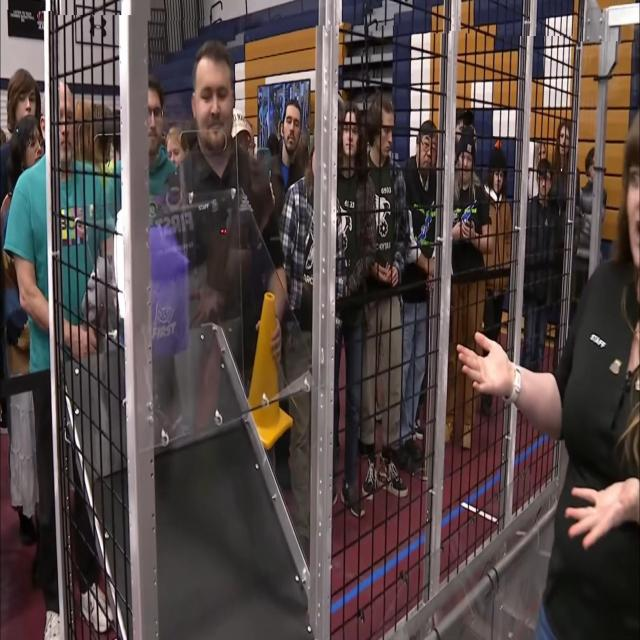frc_cone: (234, 293, 295, 448)
frc_cube: (123, 231, 191, 374)
